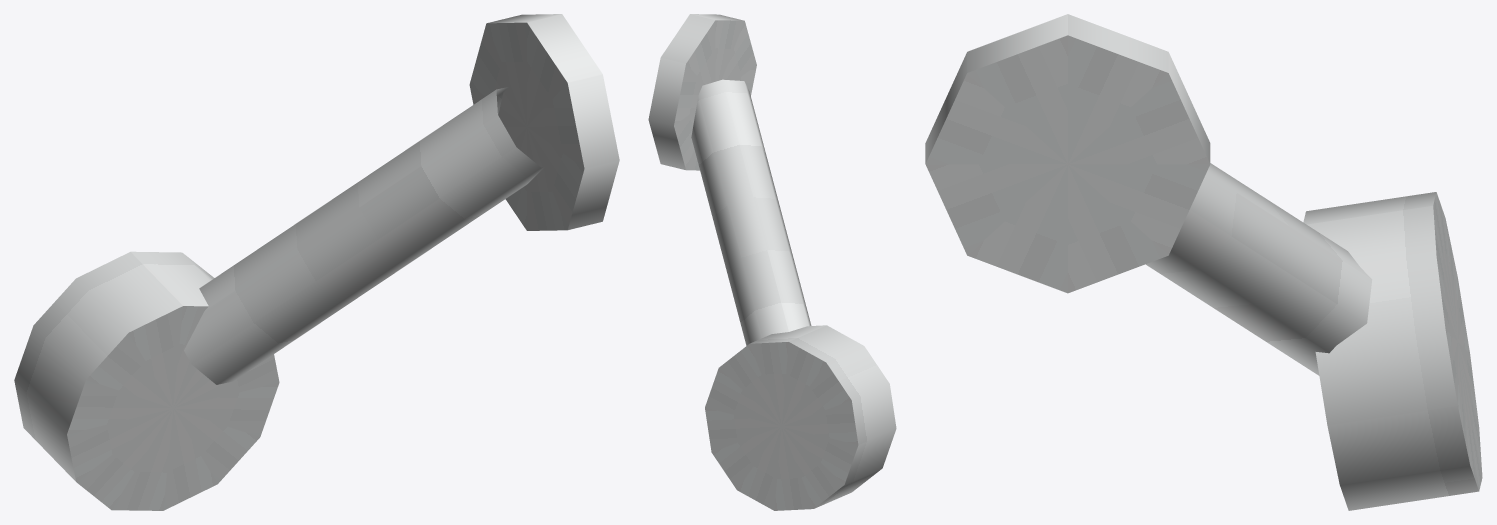
The model's file is nycsignalarm_stub_6.obj.
The picture shows the model from 3 angles, left to right: view 1: azimuth 30°, elevation 25°; view 2: azimuth 150°, elevation 25°; view 3: azimuth 270°, elevation 25°; orthographic projection. The views are drawn at different scales.
Parts seen in each view (by area): view 1: nycsignalarm_stub_6; view 2: nycsignalarm_stub_6; view 3: nycsignalarm_stub_6.
Part boxes in pixels (<box>): nycsignalarm_stub_6: <box>14,14,619,510</box>; nycsignalarm_stub_6: <box>648,14,896,510</box>; nycsignalarm_stub_6: <box>925,14,1482,510</box>.
Size of the model in its own units: 0.6861 by 0.8589 by 0.6843.
